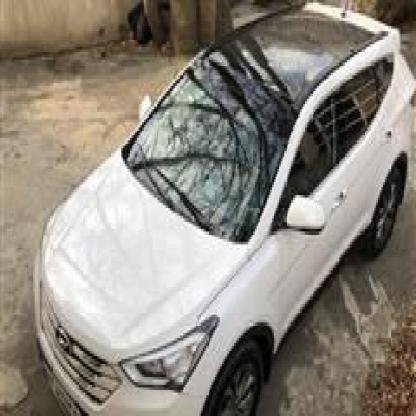Car: (14, 0, 416, 416)
